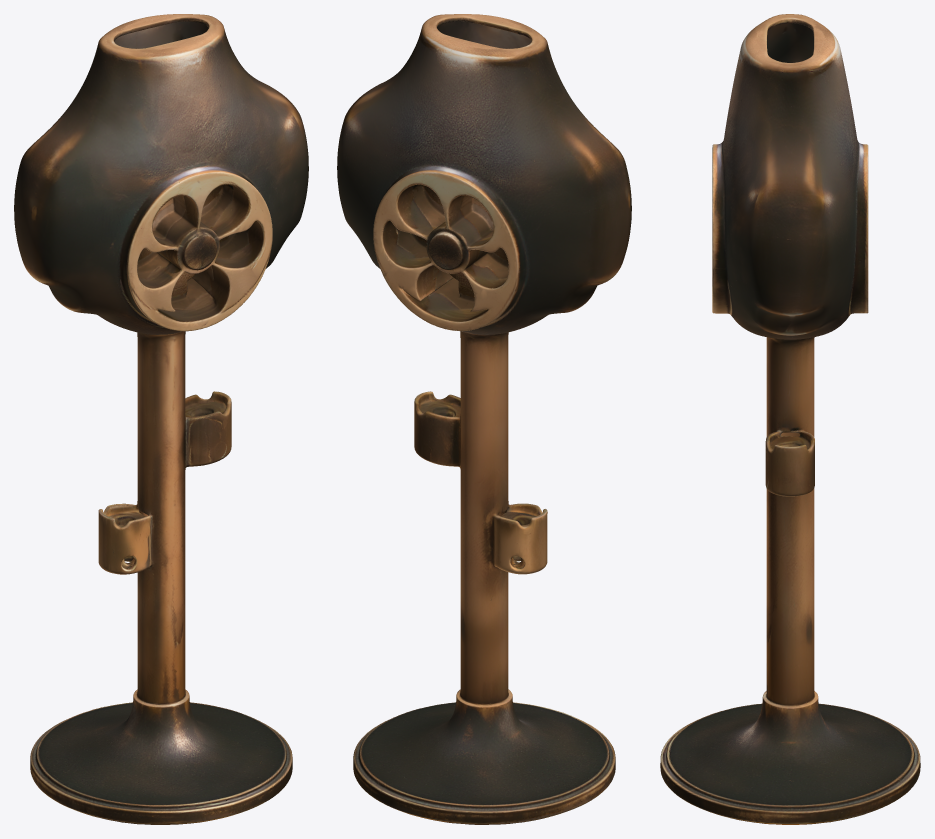
Rendered from key.glb.
The picture shows the model from 3 angles, left to right: view 1: azimuth 30°, elevation 25°; view 2: azimuth 150°, elevation 25°; view 3: azimuth 270°, elevation 25°; orthographic projection.
Size of the model in its own units: 0.7446 by 1.9 by 0.6105.
Materials: 1 (1 with a texture image).
